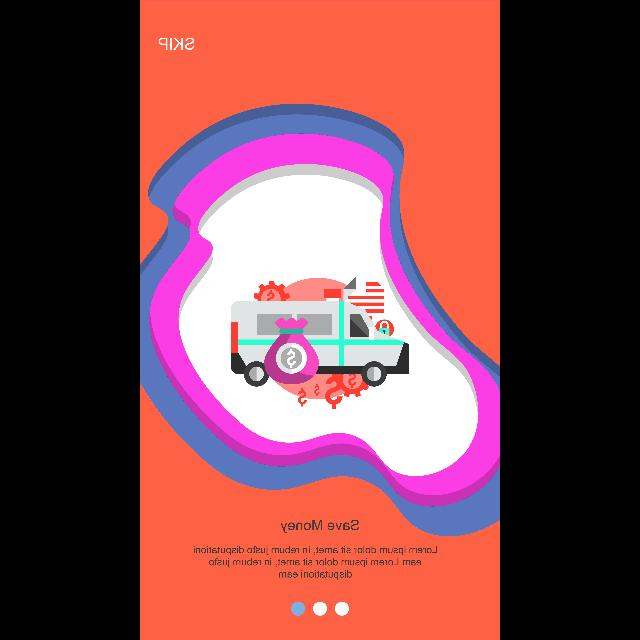backgroundimage: (140, 2, 498, 640)
image: (231, 277, 409, 409)
pageindicator: (291, 602, 349, 616)
text: (194, 546, 436, 580), (280, 519, 358, 533), (158, 38, 195, 51)
